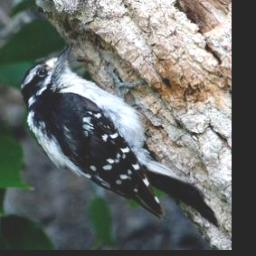Woodpecker: (15, 43, 223, 227)
